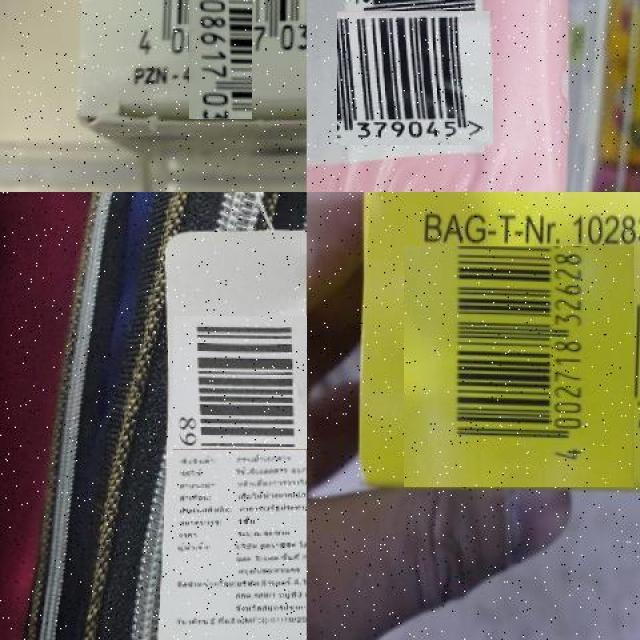Barcode: (401, 248, 637, 484), (343, 5, 488, 151), (173, 316, 307, 451), (160, 0, 279, 91)
